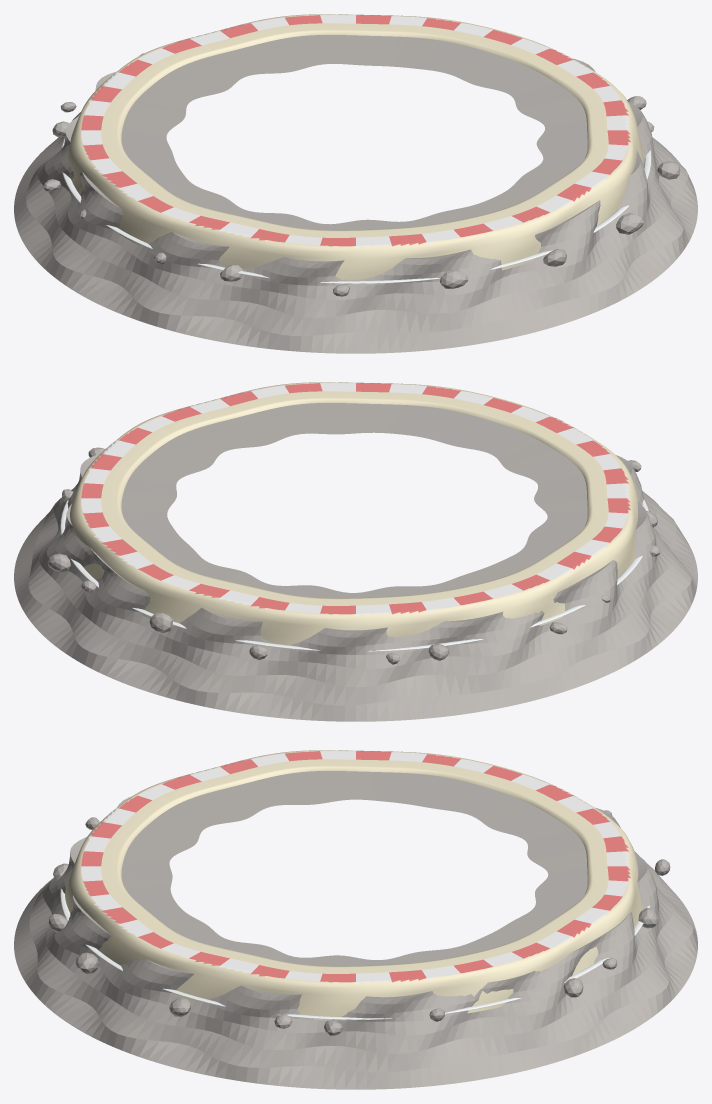
File: BumperIsland.glb
3 renders of one model, top to bottom at view 1: azimuth 30°, elevation 25°; view 2: azimuth 150°, elevation 25°; view 3: azimuth 270°, elevation 25°, orthographic.
Parts seen in each view (by area): view 1: Rock, Sand, StripeWhite, StripeRed, Foam; view 2: Rock, Sand, StripeWhite, StripeRed, Foam; view 3: Rock, Sand, StripeWhite, StripeRed, Foam.
Part boxes in pixels (bbox=[...]): Rock: bbox=[14, 35, 697, 353]; Sand: bbox=[67, 14, 644, 280]; StripeWhite: bbox=[81, 14, 629, 247]; StripeRed: bbox=[81, 15, 630, 246]; Foam: bbox=[61, 114, 651, 283]; Rock: bbox=[14, 403, 697, 721]; Sand: bbox=[65, 382, 638, 645]; StripeWhite: bbox=[81, 382, 629, 615]; StripeRed: bbox=[81, 383, 630, 614]; Foam: bbox=[60, 498, 651, 651]; Rock: bbox=[14, 771, 697, 1089]; Sand: bbox=[65, 750, 642, 1020]; StripeWhite: bbox=[81, 750, 629, 983]; StripeRed: bbox=[81, 751, 630, 982]; Foam: bbox=[60, 888, 650, 1019].
Bounding box in the file's own units: 110 × 14 × 110.
